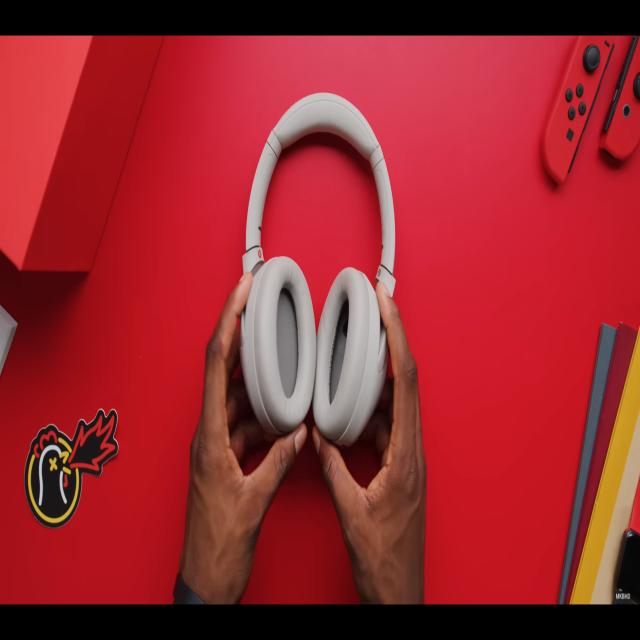Headphone: (239, 91, 396, 447)
